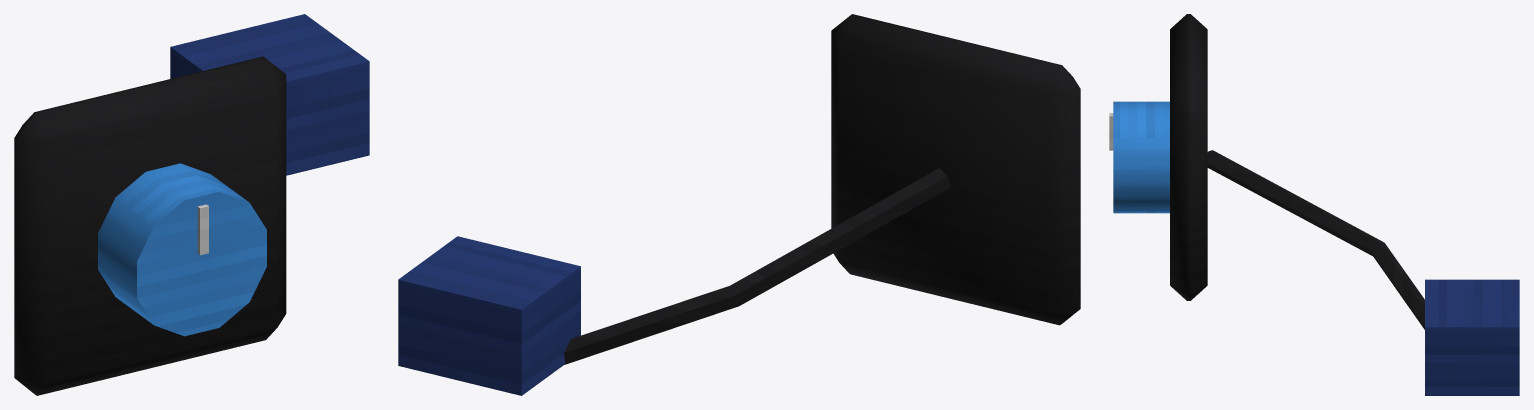
File: balanco_freio_n2.glb
3 views of the same model, side by side, from view 1: azimuth 30°, elevation 25°; view 2: azimuth 150°, elevation 25°; view 3: azimuth 270°, elevation 25° (orthographic). The views are drawn at different scales.
Visible parts, largest first — view 1: balanco_freio_n2; view 2: balanco_freio_n2; view 3: balanco_freio_n2.
Part boxes in pixels (x1=…): balanco_freio_n2: x1=14, y1=14, x2=369, y2=395; balanco_freio_n2: x1=398, y1=14, x2=1080, y2=395; balanco_freio_n2: x1=1109, y1=14, x2=1519, y2=395.
Size of the model in its own units: 0.23 by 0.1241 by 0.217.
Materials: 1 (1 with a texture image).
